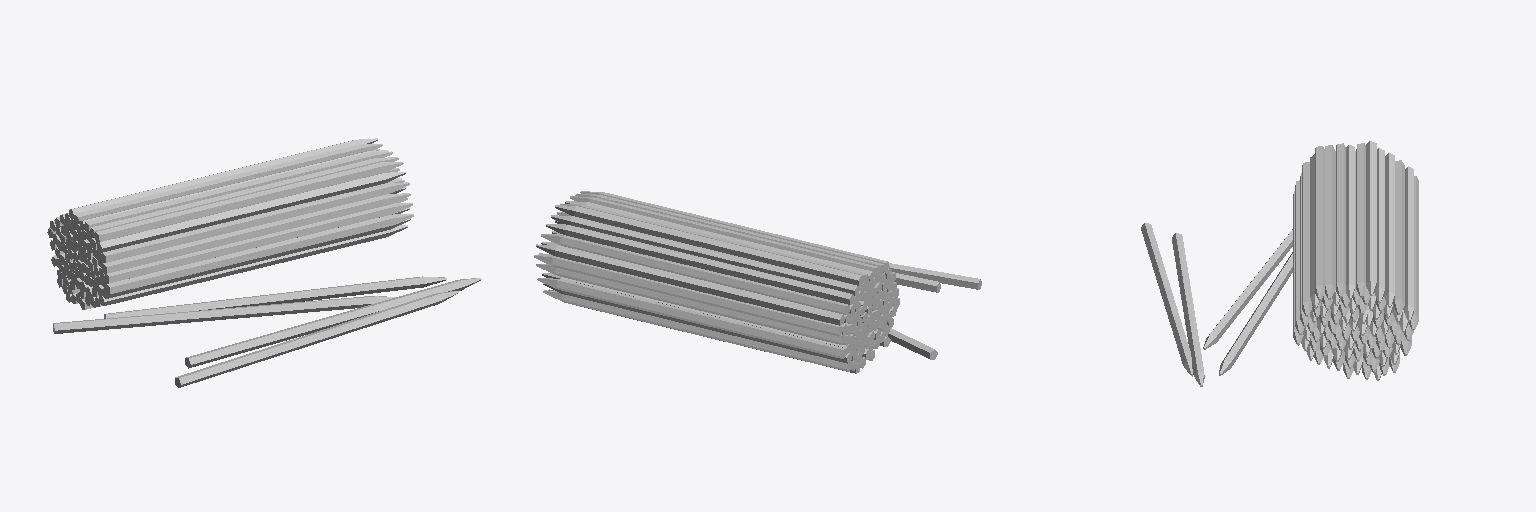
The model's file is bamboo_skewers(bunch).obj.
3 renders of one model, left to right at view 1: azimuth 30°, elevation 25°; view 2: azimuth 150°, elevation 25°; view 3: azimuth 270°, elevation 25°, orthographic.
Parts seen in each view (by area): view 1: bamboo_sticks_group2; view 2: bamboo_sticks_group2; view 3: bamboo_sticks_group2.
Part boxes in pixels (x1,y1,x2,y2): bamboo_sticks_group2: (47, 138, 481, 387); bamboo_sticks_group2: (534, 191, 981, 373); bamboo_sticks_group2: (1141, 141, 1418, 386).
Size of the model in its own units: 25.95 by 6.35 by 16.86.